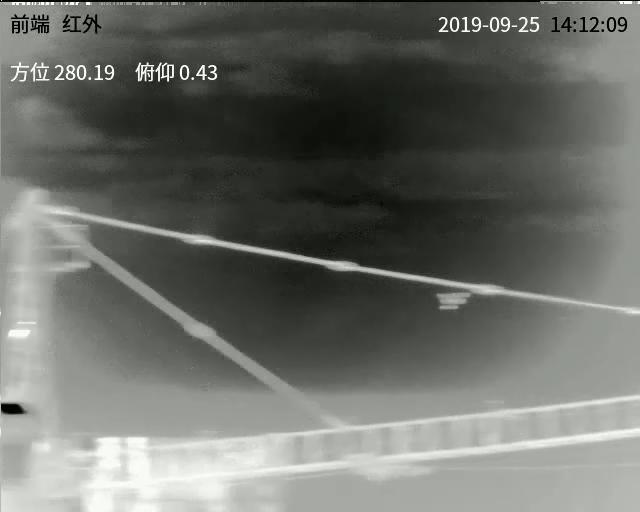uav: (434, 290, 471, 313)
